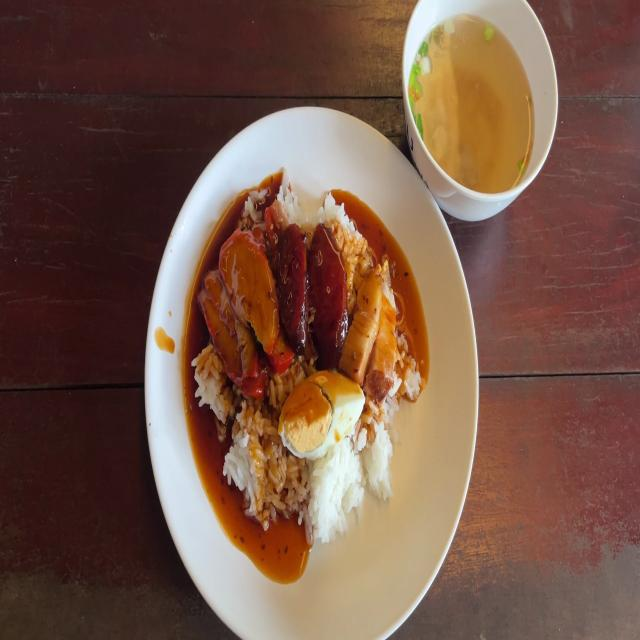01boiled_egg: (279, 371, 364, 458)
01chainese_sausage: (278, 224, 346, 360), (309, 224, 344, 366), (277, 223, 309, 343)
01crispy_pork: (348, 263, 399, 402), (377, 262, 402, 403), (348, 272, 378, 372)
01red_pork: (205, 232, 276, 384), (219, 226, 278, 353), (194, 274, 252, 390)
01red_pork_and_crispy_pork: (196, 179, 421, 544)
01rice: (224, 412, 283, 514), (312, 444, 362, 532), (363, 415, 399, 496)
